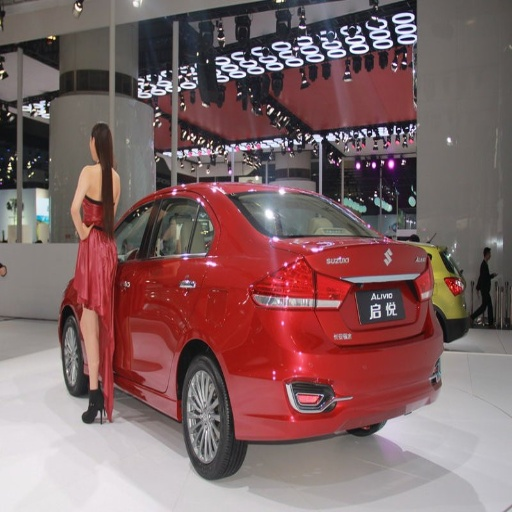back_bumper: (233, 311, 444, 443)
back_glass: (231, 192, 372, 237)
back_left_door: (139, 194, 212, 396)
tailgate: (296, 239, 433, 339)
trunk: (292, 278, 396, 358)
